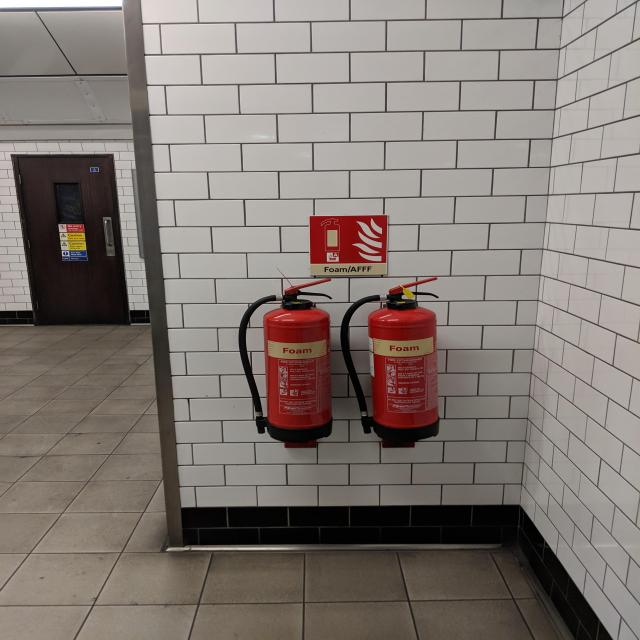fire_extinguisher: (336, 278, 446, 444), (236, 274, 338, 447)
